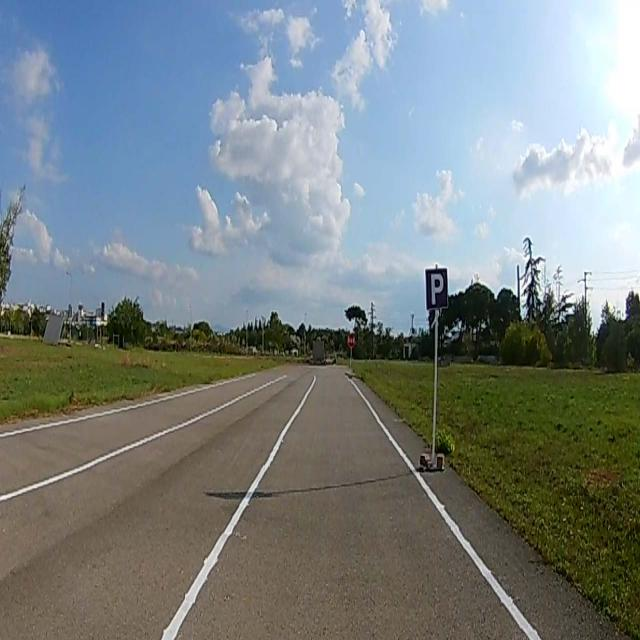park: (425, 268, 448, 308)
